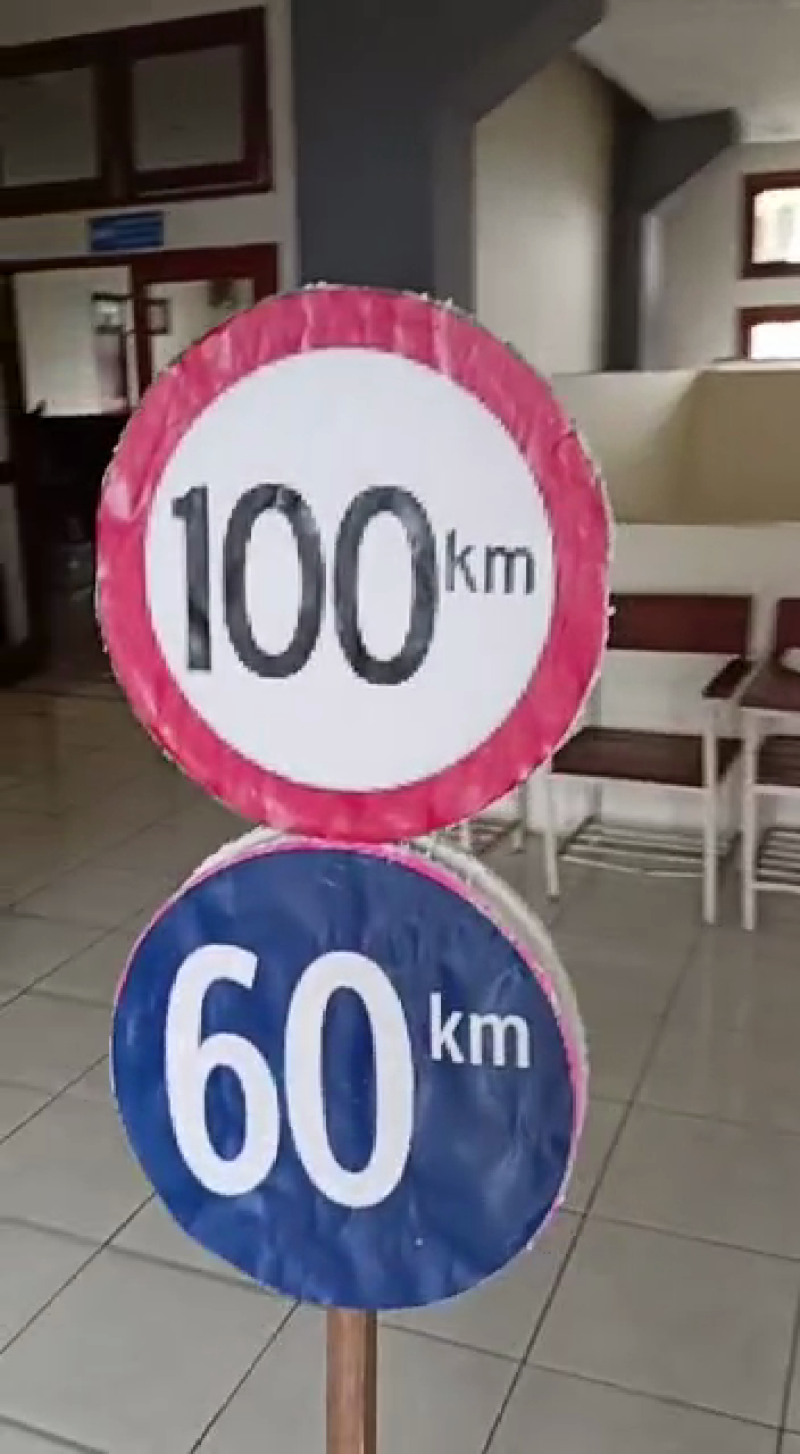batas maksimal 100kmperjam minimal 60kmperjam: (76, 257, 615, 1347)
